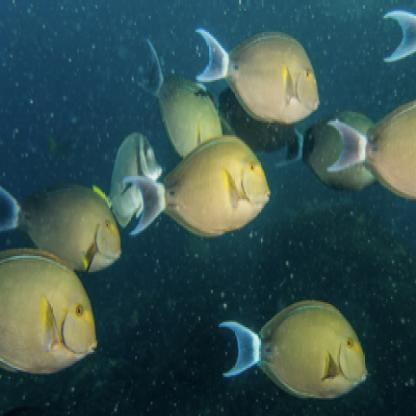Acanthuridae -Surgeonfishes-: (120, 131, 274, 243), (214, 289, 372, 396), (135, 31, 228, 175), (197, 23, 326, 126), (1, 241, 102, 367), (1, 179, 124, 269), (326, 92, 415, 204)
